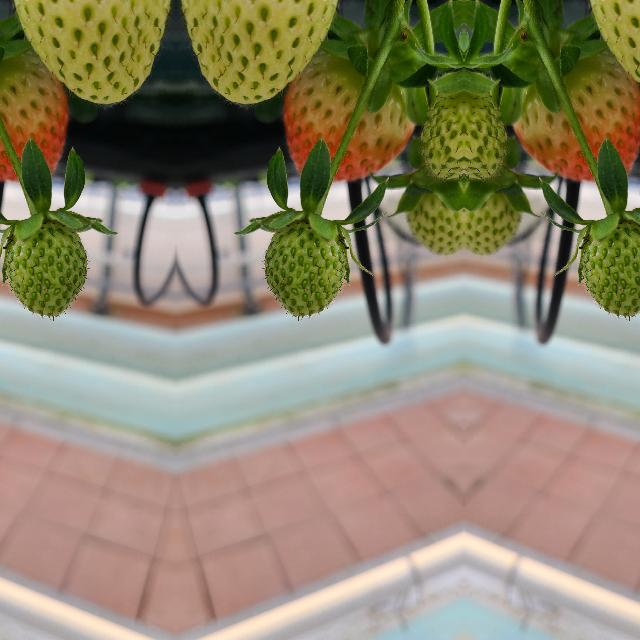Health_100: (284, 45, 414, 183), (512, 45, 640, 183), (0, 45, 65, 183)
Health_25: (174, 0, 335, 106), (14, 0, 175, 106), (263, 221, 343, 317), (7, 221, 87, 317), (583, 221, 640, 317), (590, 0, 640, 106), (403, 187, 463, 260), (463, 187, 523, 260), (418, 94, 462, 184), (464, 94, 508, 184)
